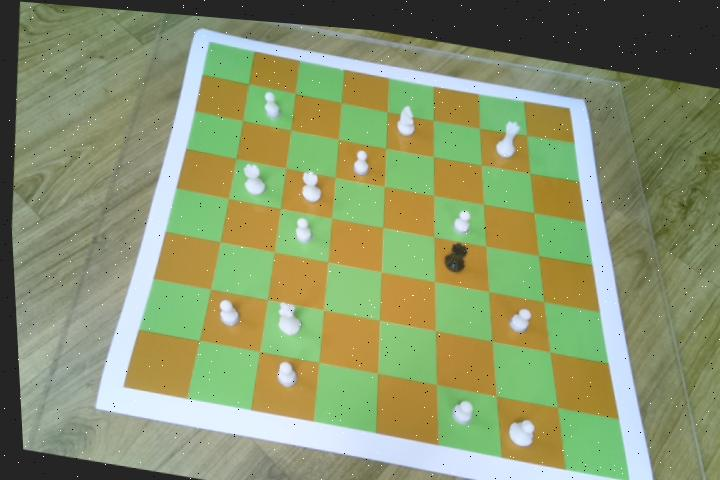chessboard-detect: (118, 37, 626, 472)
